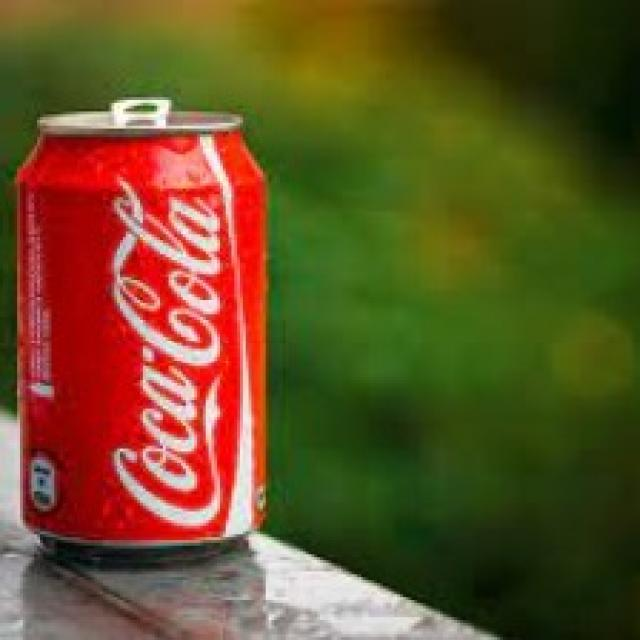metel: (15, 99, 277, 569)
